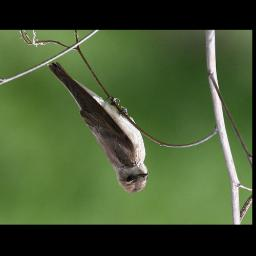Swallow: (45, 60, 149, 194)
